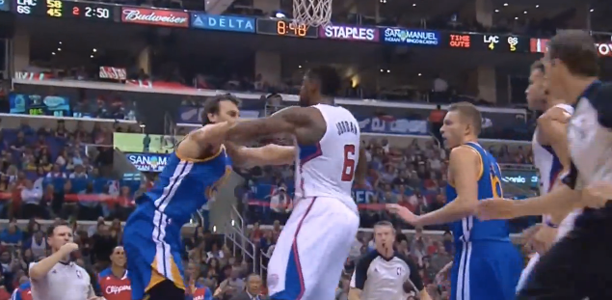basket: (291, 1, 334, 27)
player: (118, 93, 276, 300), (257, 67, 363, 300), (401, 102, 523, 299), (536, 31, 609, 300)
